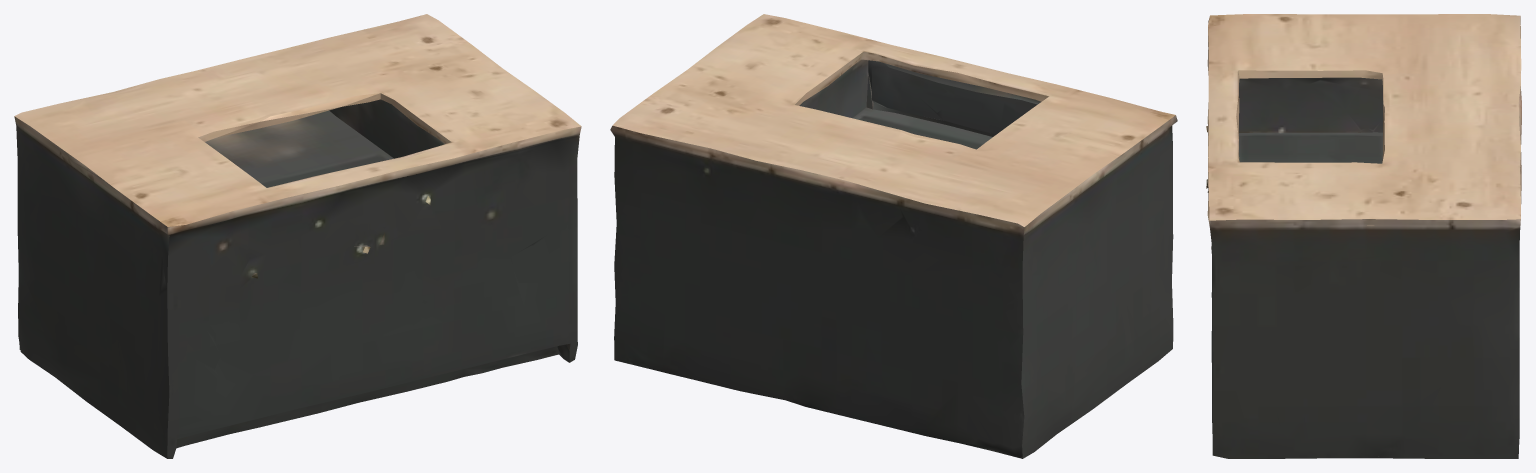
Rendered from kitchen-island.glb.
The picture shows the model from 3 angles, left to right: view 1: azimuth 30°, elevation 25°; view 2: azimuth 150°, elevation 25°; view 3: azimuth 270°, elevation 25°; orthographic projection.
Parts seen in each view (by area): view 1: geometry_0; view 2: geometry_0; view 3: geometry_0.
Part boxes in pixels (left/top/right/bottom): geometry_0: left=14, top=14, right=581, bottom=458; geometry_0: left=610, top=14, right=1177, bottom=458; geometry_0: left=1206, top=14, right=1521, bottom=458.
Bounding box in the file's own units: 1.8 × 0.9818 × 1.16.
1 material, 1 textured.
